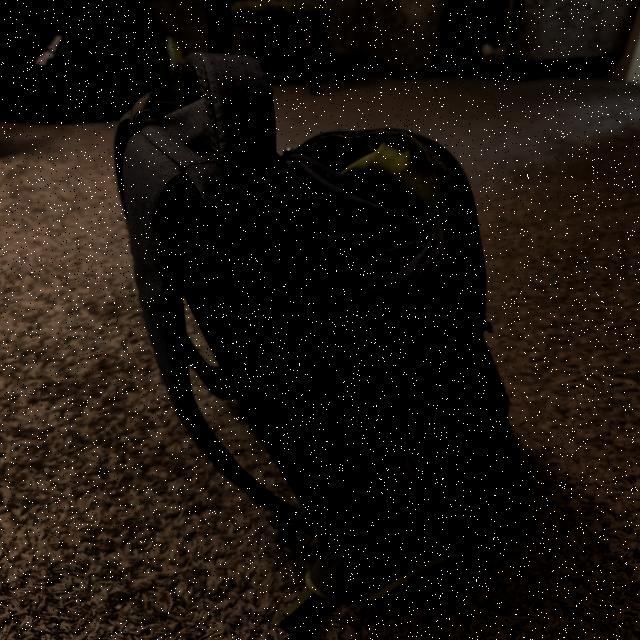bag: (110, 53, 548, 536)
